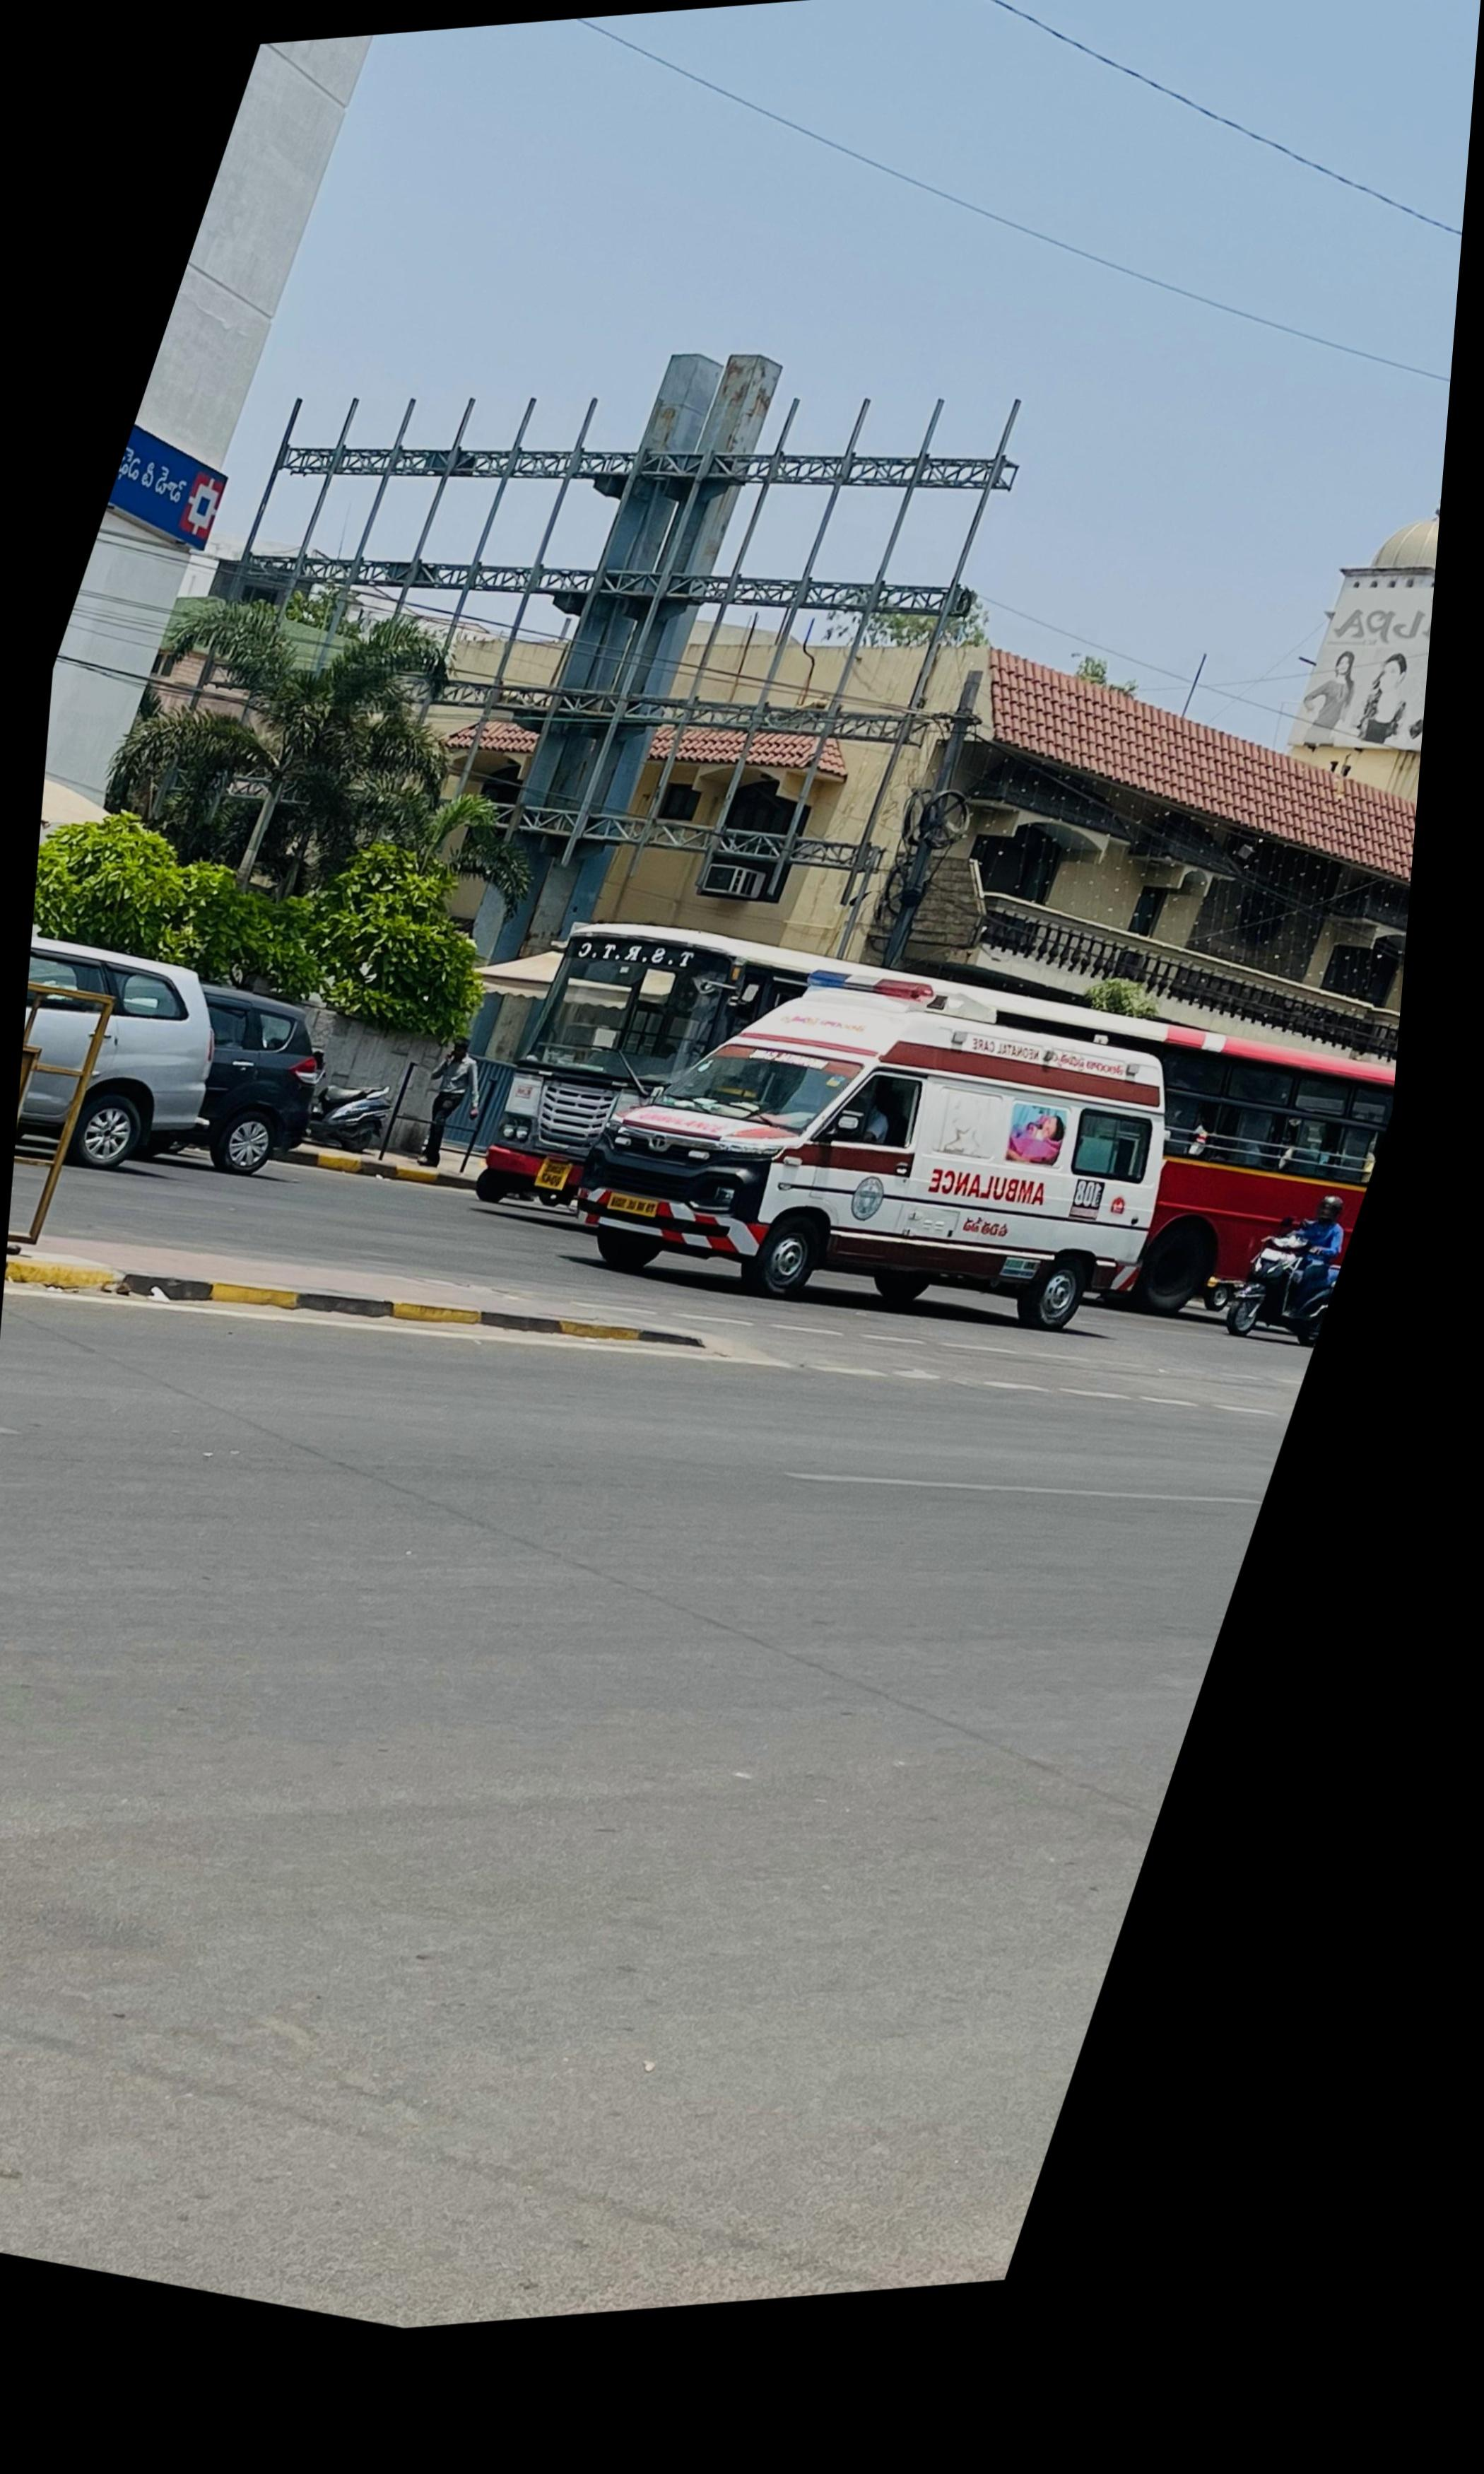ambulance: (587, 997, 1166, 1325)
